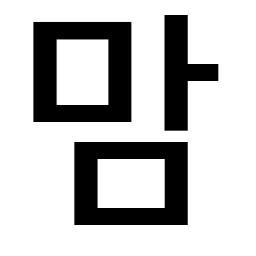Buri: (155, 7, 203, 29)
Gaji: (156, 52, 201, 92)
Kkeokim: (140, 134, 202, 171), (95, 13, 142, 54)
